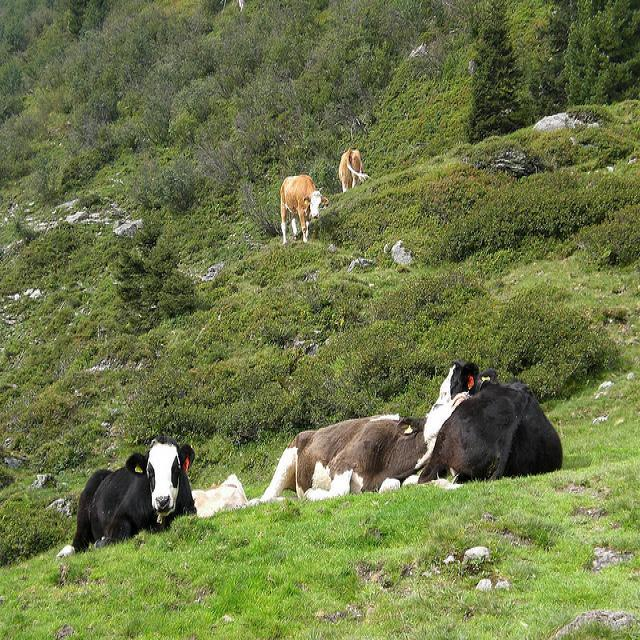cow: (261, 391, 467, 499), (415, 360, 562, 489), (55, 439, 196, 553), (279, 172, 327, 244), (337, 147, 369, 191)
